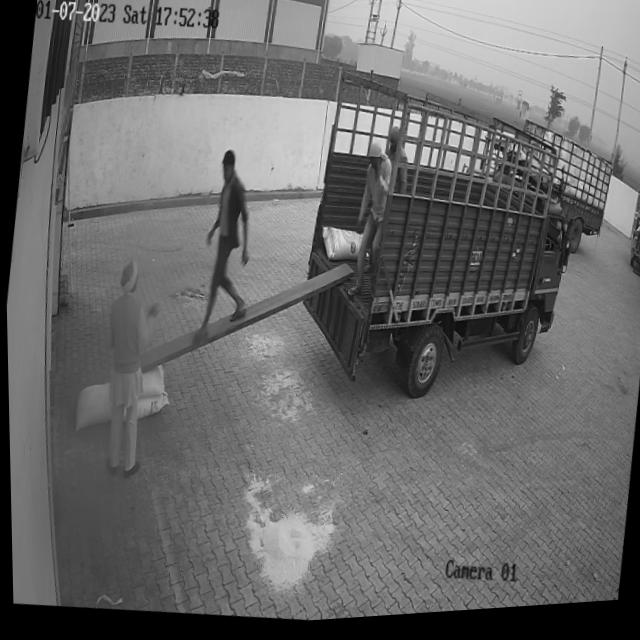sack: (71, 379, 113, 434), (316, 226, 363, 270), (134, 390, 168, 424), (134, 364, 164, 402)
